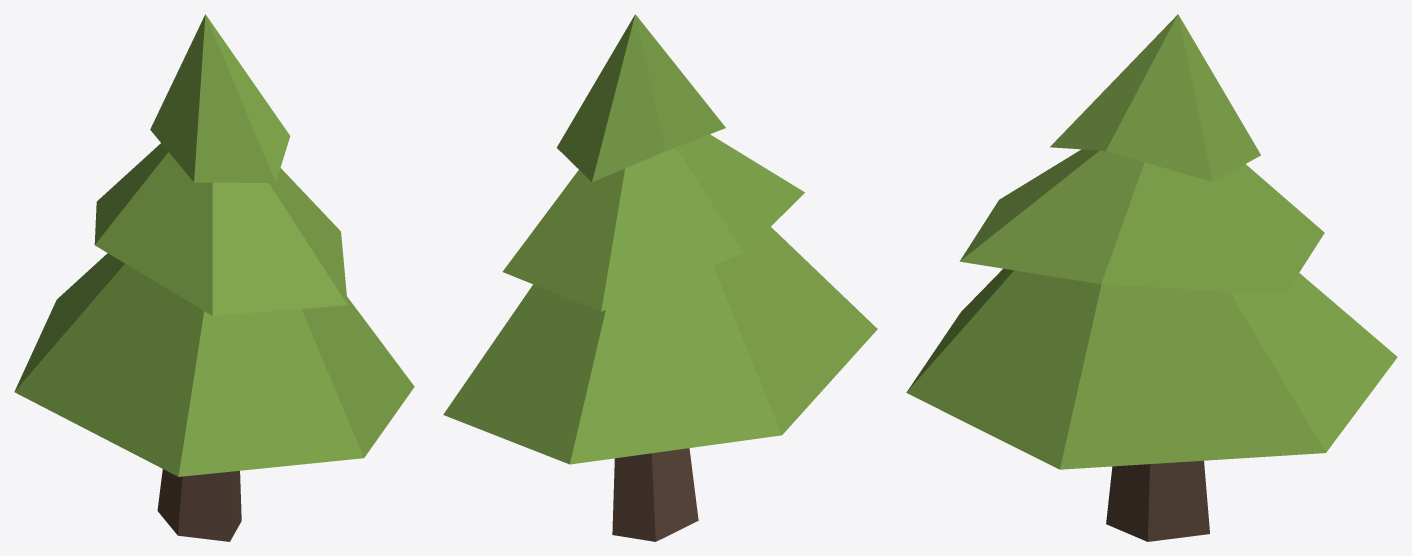
The model's file is TB_Env_Tree_Small_B.FBX.
The picture shows the model from 3 angles, left to right: view 1: azimuth 30°, elevation 25°; view 2: azimuth 150°, elevation 25°; view 3: azimuth 270°, elevation 25°; orthographic projection. The views are drawn at different scales.
Parts seen in each view (by area): view 1: TB_Env_Tree_Small_B; view 2: TB_Env_Tree_Small_B; view 3: TB_Env_Tree_Small_B.
Boxes of the visible parts, x1=… form: TB_Env_Tree_Small_B: x1=14, y1=14, x2=414, y2=541; TB_Env_Tree_Small_B: x1=443, y1=14, x2=877, y2=541; TB_Env_Tree_Small_B: x1=906, y1=14, x2=1397, y2=541.
Bounding box in the file's own units: 2.93 × 4.4 × 3.79.
